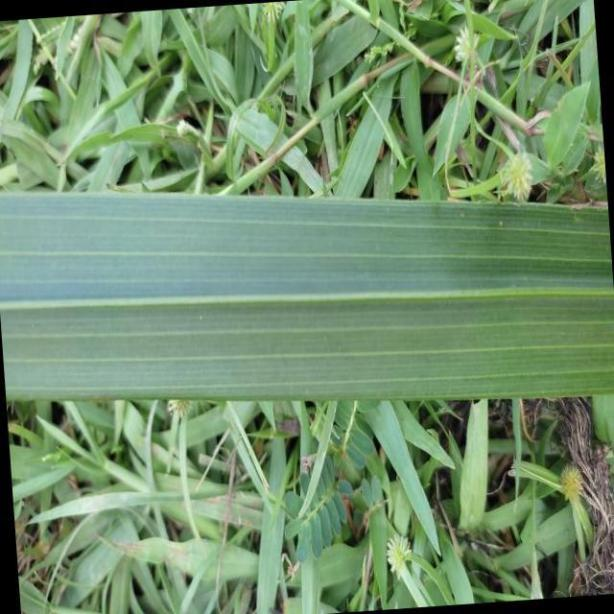Healthy: (0, 190, 614, 398)
